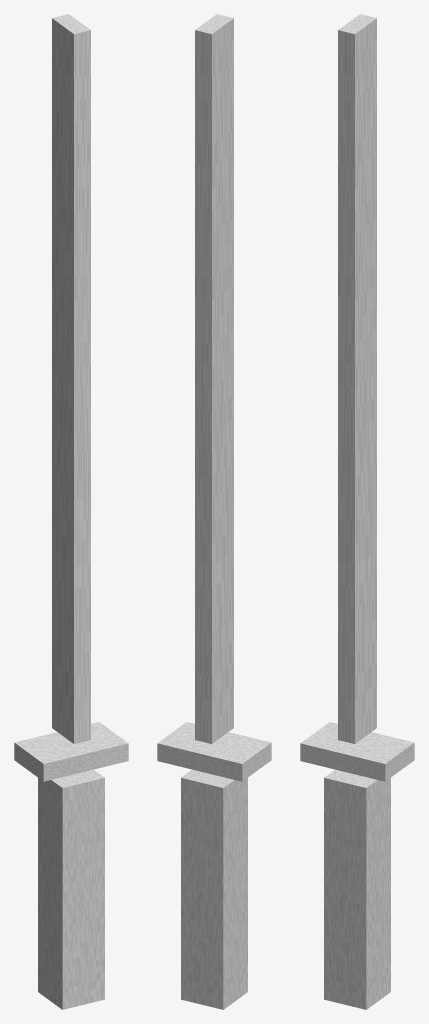
Rendered from katana.obj.
3 views of the same model, side by side, from view 1: azimuth 30°, elevation 25°; view 2: azimuth 150°, elevation 25°; view 3: azimuth 330°, elevation 25° (orthographic).
Parts seen in each view (by area): view 1: part2, part0, part1; view 2: part2, part0, part1; view 3: part2, part0, part1.
Part boxes in pixels (x1,y1,x2,y2): part2: (52,14,90,743); part0: (38,769,104,1009); part1: (14,722,128,781); part2: (195,14,233,743); part0: (181,769,247,1009); part1: (157,722,271,781); part2: (338,14,376,743); part0: (324,769,390,1009); part1: (300,722,414,781).
Bounding box in the file's own units: 0.1 × 1.09 × 0.06.
3 materials, 3 textured.
